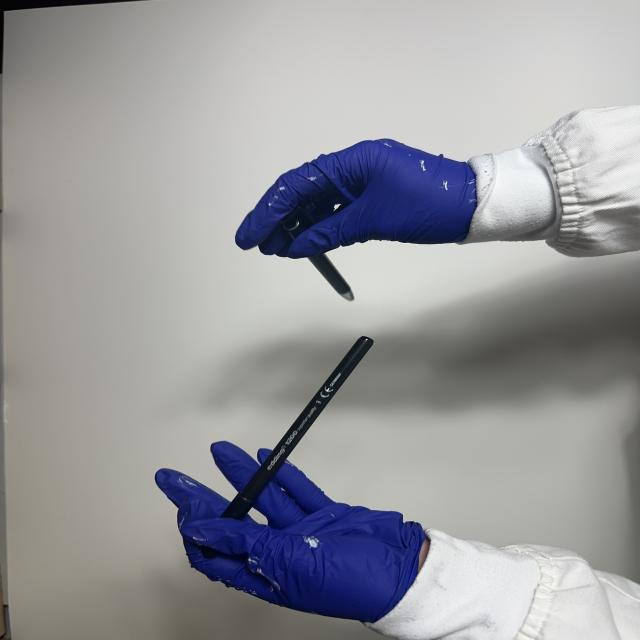gloves_contaminated: (155, 442, 429, 622), (236, 139, 476, 258)
